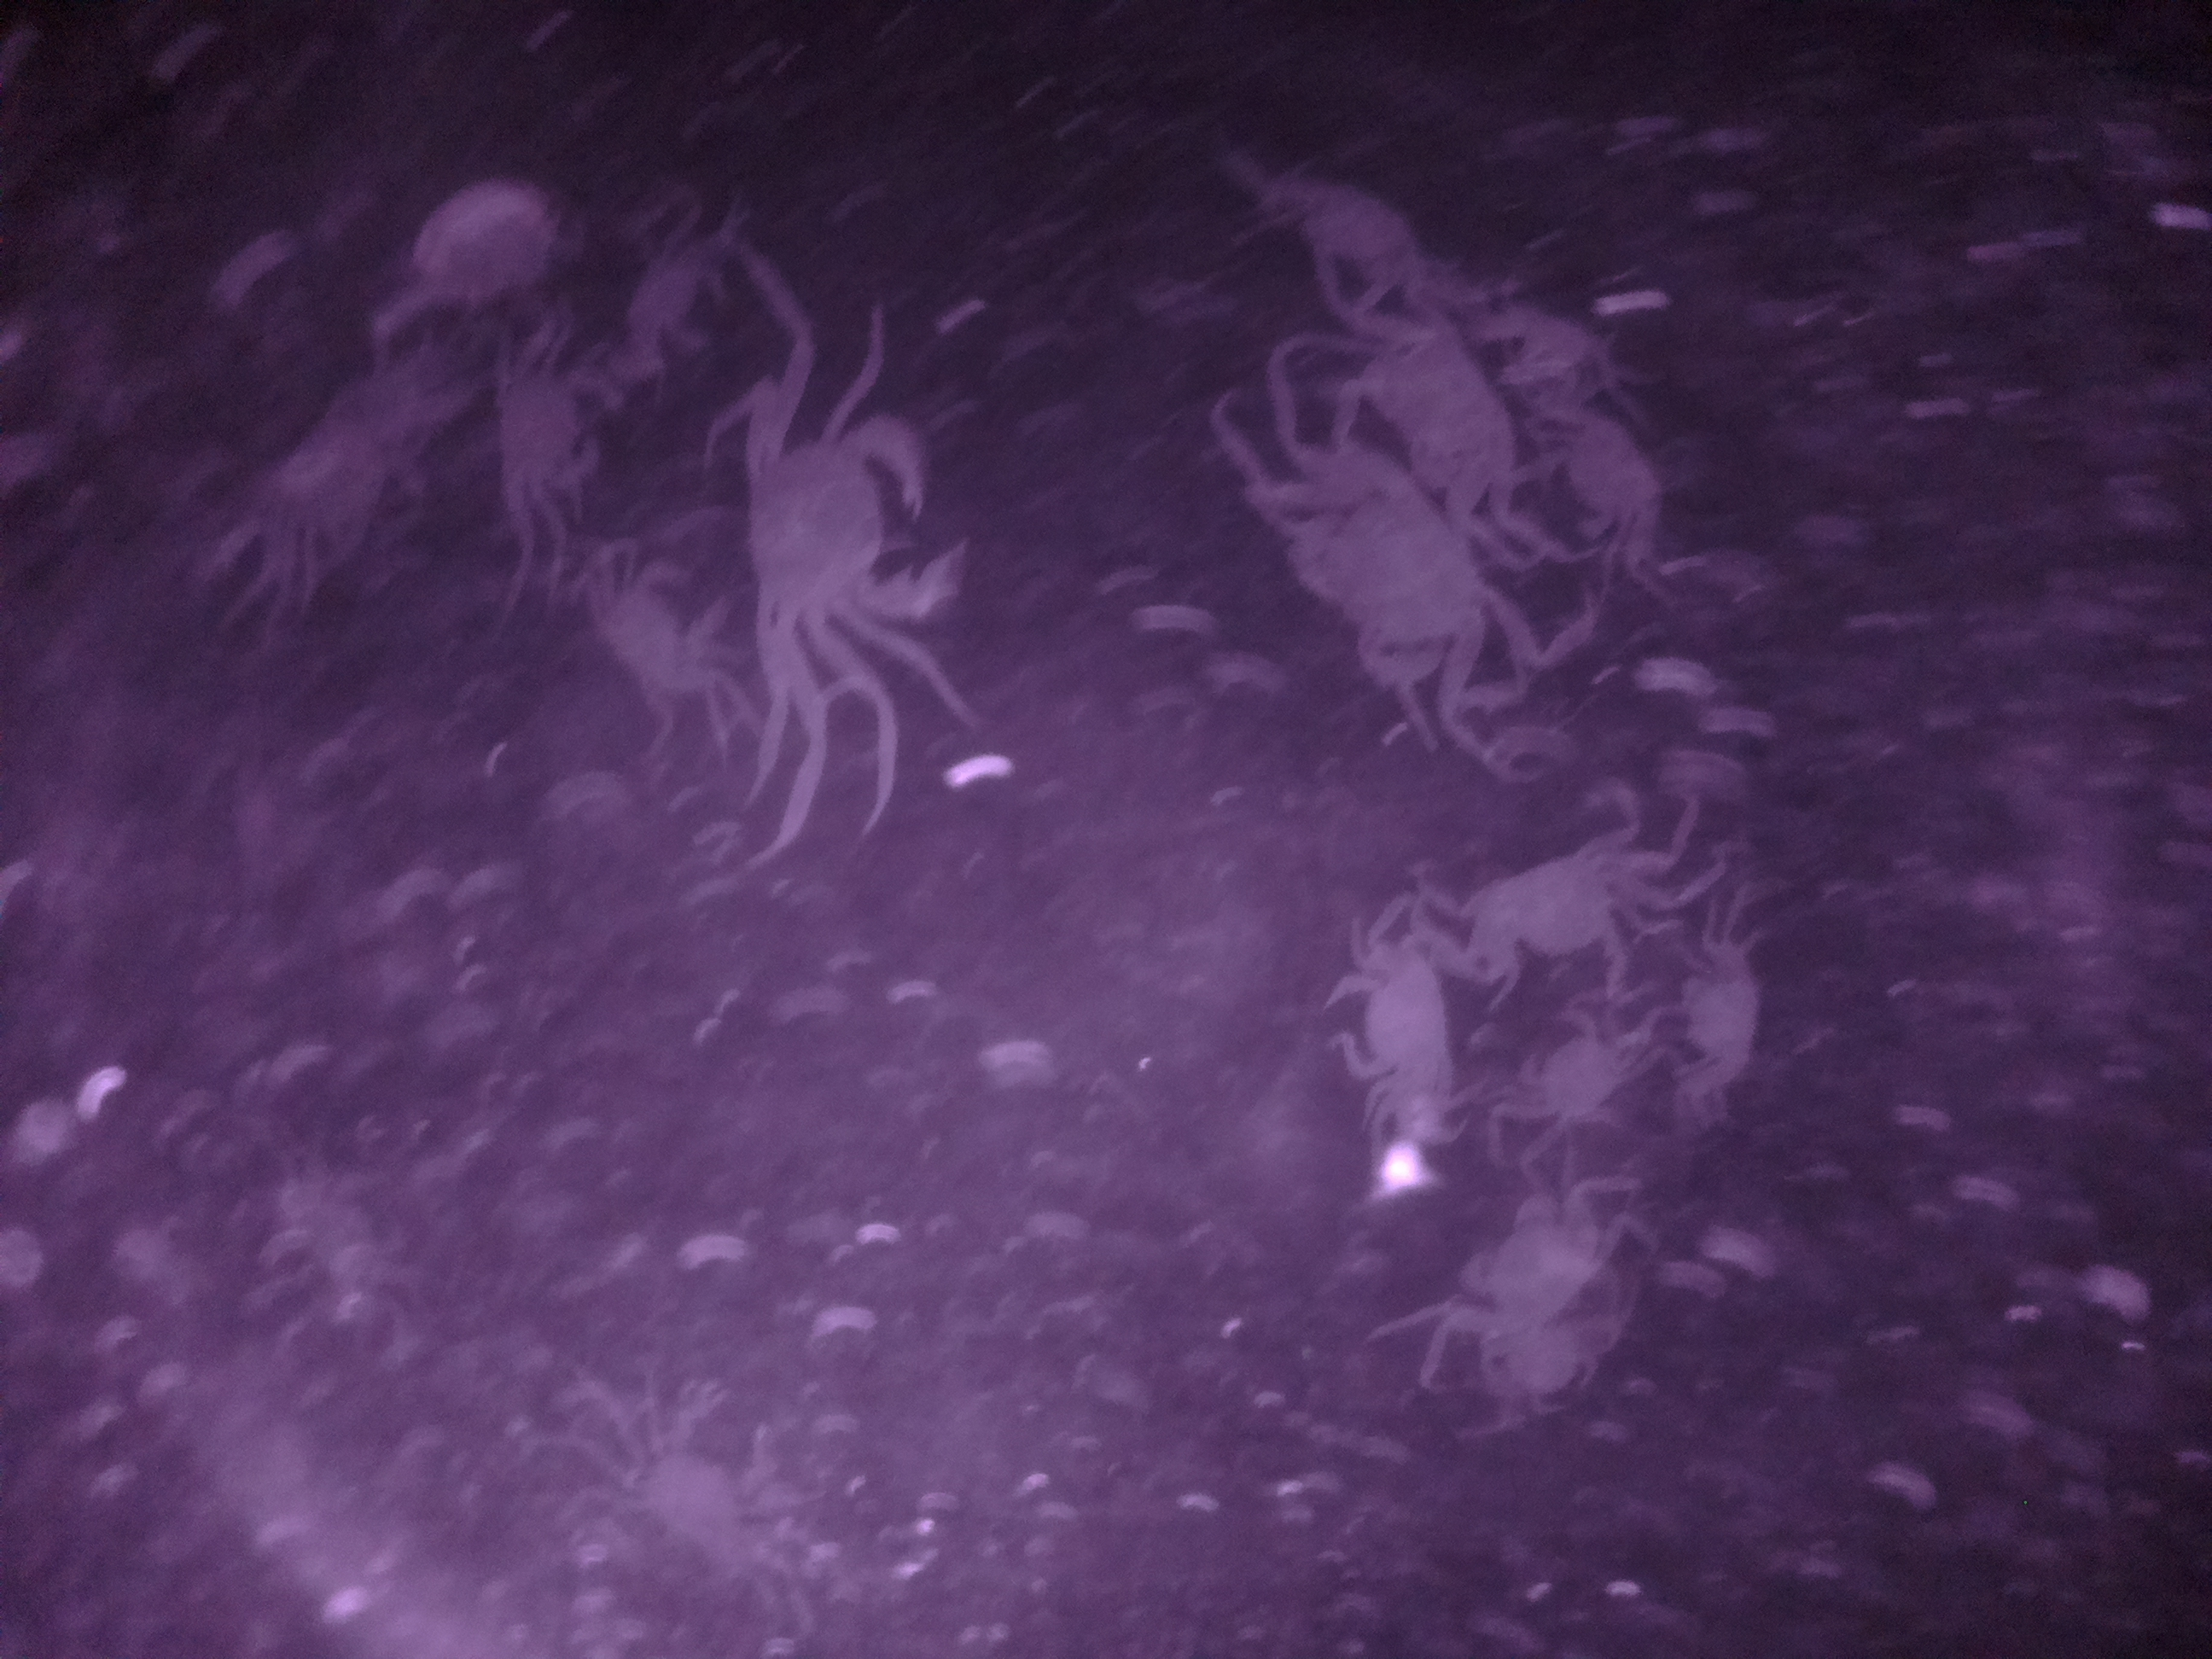Crab: (726, 380, 968, 664), (1447, 1182, 1599, 1354), (1318, 938, 1460, 1101), (1501, 995, 1639, 1141), (1676, 939, 1775, 1107)
